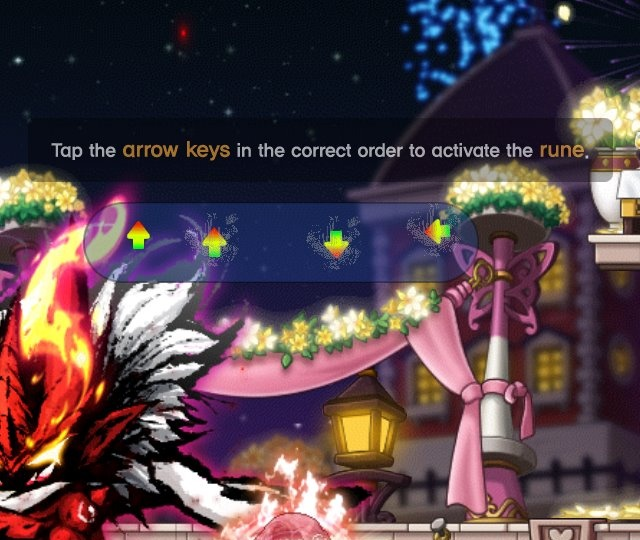down: (319, 225, 354, 264)
left: (416, 216, 459, 249)
up: (119, 216, 155, 258), (197, 224, 233, 266)
